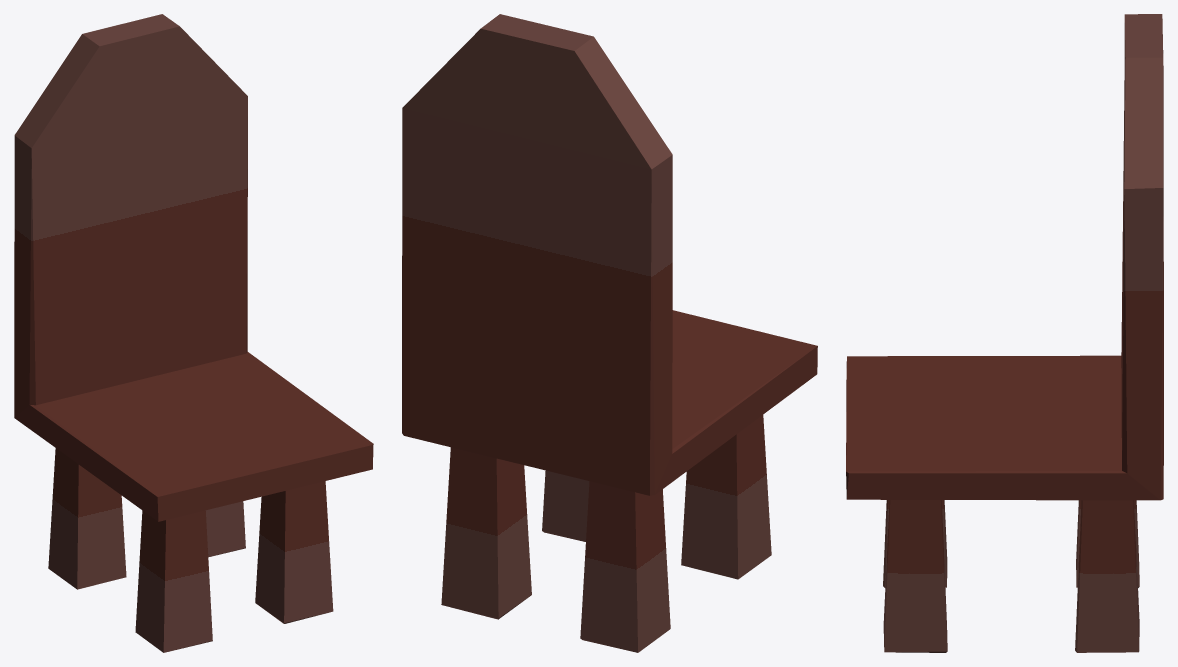
The model's file is Chair.fbx.
The picture shows the model from 3 angles, left to right: view 1: azimuth 30°, elevation 25°; view 2: azimuth 150°, elevation 25°; view 3: azimuth 270°, elevation 25°; orthographic projection. The views are drawn at different scales.
Parts seen in each view (by area): view 1: Chair; view 2: Chair; view 3: Chair.
Boxes of the visible parts, x1,y1,x2,y2 form: Chair: (14,14,373,652); Chair: (402,14,817,652); Chair: (846,14,1163,652).
Size of the model in its own units: 200 by 453 by 228.
